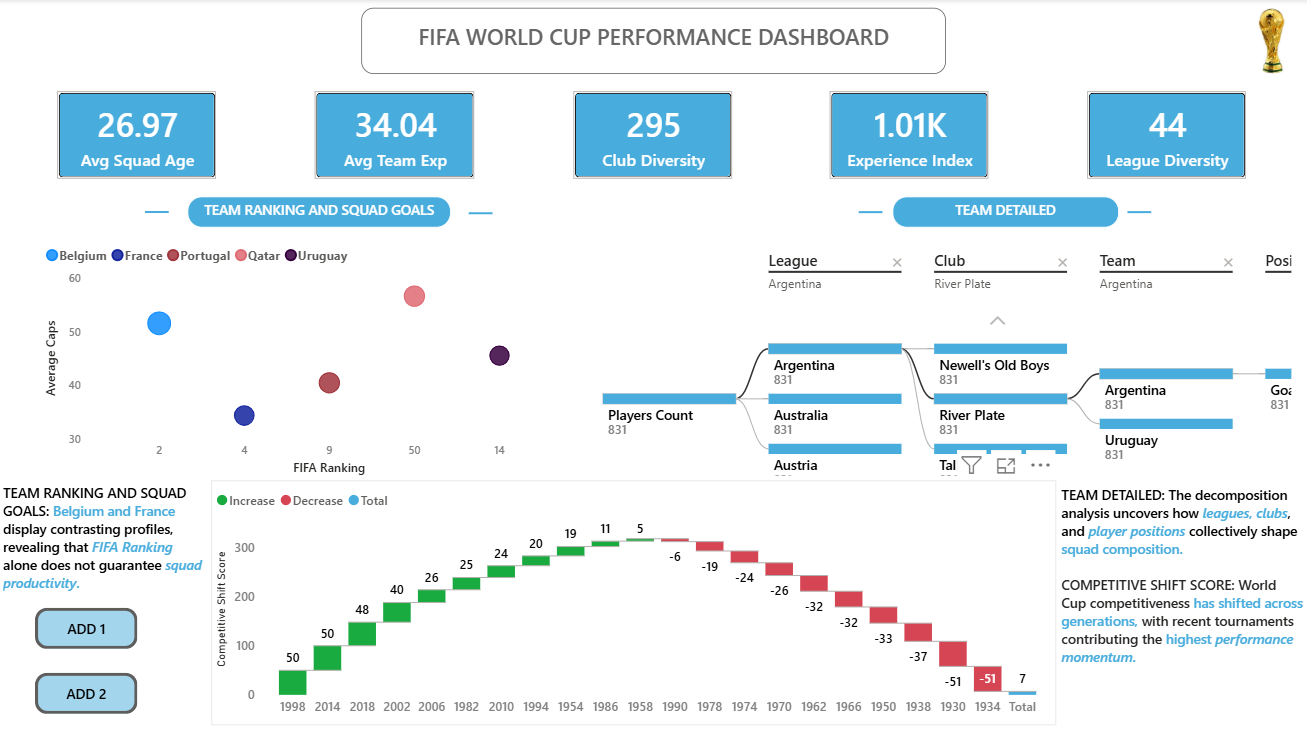

What the dashboard file says about the page in this screenshot:
{"tool":"powerbi","page":{"name":"TEAM INSIGHTS","canvas":[1280,720],"ordinal":2},"visuals":[{"type":"textbox","box":[353.9,8.6,572.3,64.8],"z":0},{"type":"cardVisual","fields":{"Data":["key measure 3.Club Diversity"]},"box":[543.5,73.4,189.5,119.8],"z":1000},{"type":"cardVisual","fields":{"Data":["key measure 3.Avg Team Experience"]},"box":[290.7,73.4,190.8,119.8],"z":2000},{"type":"cardVisual","fields":{"Data":["key measure 3.Average Squad Age"]},"box":[39.1,73.4,189.5,119.8],"z":3000},{"type":"cardVisual","fields":{"Data":["key measure 3.League Diversity"]},"box":[1046.7,73.4,189.5,119.8],"z":4000},{"type":"cardVisual","fields":{"Data":["key measure 3.Experience Index"]},"box":[795.1,73.4,189.5,119.8],"z":5000},{"type":"image","box":[1220.4,8.6,47.7,64.8],"z":6000},{"type":"textbox","box":[183.9,193.5,258,30.2],"z":7000},{"type":"shape","box":[141.3,186.6,23.3,42.5],"z":8000},{"type":"shape","box":[458.3,188,23.3,42.5],"z":9000},{"type":"textbox","box":[873.1,193.2,221.3,30.6],"z":10000},{"type":"shape","box":[1103,187.1,23.2,42.8],"z":11000},{"type":"shape","box":[840.1,187.1,23.2,42.8],"z":12000},{"type":"textbox","box":[0,470.8,206.7,249.5],"z":13000},{"type":"textbox","box":[1033.3,470.8,247,249.5],"z":14000},{"type":"decompositionTreeVisual","fields":{"Analyze":["key measure 3.Players Count"],"ExplainBy":["2022_world_cup_squads (2).League","2022_world_cup_squads (2).Club","2022_world_cup_squads (2).Team","2022_world_cup_squads (2).Position"]},"box":[559.9,230.5,708.1,240.1],"z":15000},{"type":"scatterChart","fields":{"X":["2022_world_cup_groups.FIFA Ranking"],"Y":["key measure 3.Average Caps"],"Size":["key measure 3.Total Squad Goals"],"Series":["2022_world_cup_groups.Team"]},"box":[39.8,230.5,520.1,240.1],"z":16000},{"type":"waterfallChart","fields":{"Category":["world_cups.Year"],"Y":["key measure 3.Competitive Shift Score 1"]},"box":[207.2,470.7,826.1,240.1],"z":18000},{"type":"actionButton","box":[34.2,595.5,100.3,40.4],"z":19000},{"type":"actionButton","box":[34.2,659.1,100.3,40.4],"z":20000}]}

Visuals, with their boxes in screenshot pixels (x1, y1, x2, y2), scaled from the page's 1280x720 canvas onto the 1307x733 screenshot:
textbox: bbox(361, 9, 946, 75)
cardVisual - key measure 3.Club Diversity: bbox(555, 75, 748, 197)
cardVisual - key measure 3.Avg Team Experience: bbox(297, 75, 492, 197)
cardVisual - key measure 3.Average Squad Age: bbox(40, 75, 233, 197)
cardVisual - key measure 3.League Diversity: bbox(1069, 75, 1262, 197)
cardVisual - key measure 3.Experience Index: bbox(812, 75, 1005, 197)
image: bbox(1246, 9, 1295, 75)
textbox: bbox(188, 197, 451, 228)
shape: bbox(144, 190, 168, 233)
shape: bbox(468, 191, 492, 235)
textbox: bbox(892, 197, 1117, 228)
shape: bbox(1126, 190, 1150, 234)
shape: bbox(858, 190, 882, 234)
textbox: bbox(0, 479, 211, 732)
textbox: bbox(1055, 479, 1306, 732)
decompositionTreeVisual - key measure 3.Players Count x 2022_world_cup_squads (2).League: bbox(572, 235, 1295, 479)
scatterChart - 2022_world_cup_groups.FIFA Ranking x key measure 3.Average Caps: bbox(41, 235, 572, 479)
waterfallChart - world_cups.Year x key measure 3.Competitive Shift Score 1: bbox(212, 479, 1055, 724)
actionButton: bbox(35, 606, 137, 647)
actionButton: bbox(35, 671, 137, 712)
